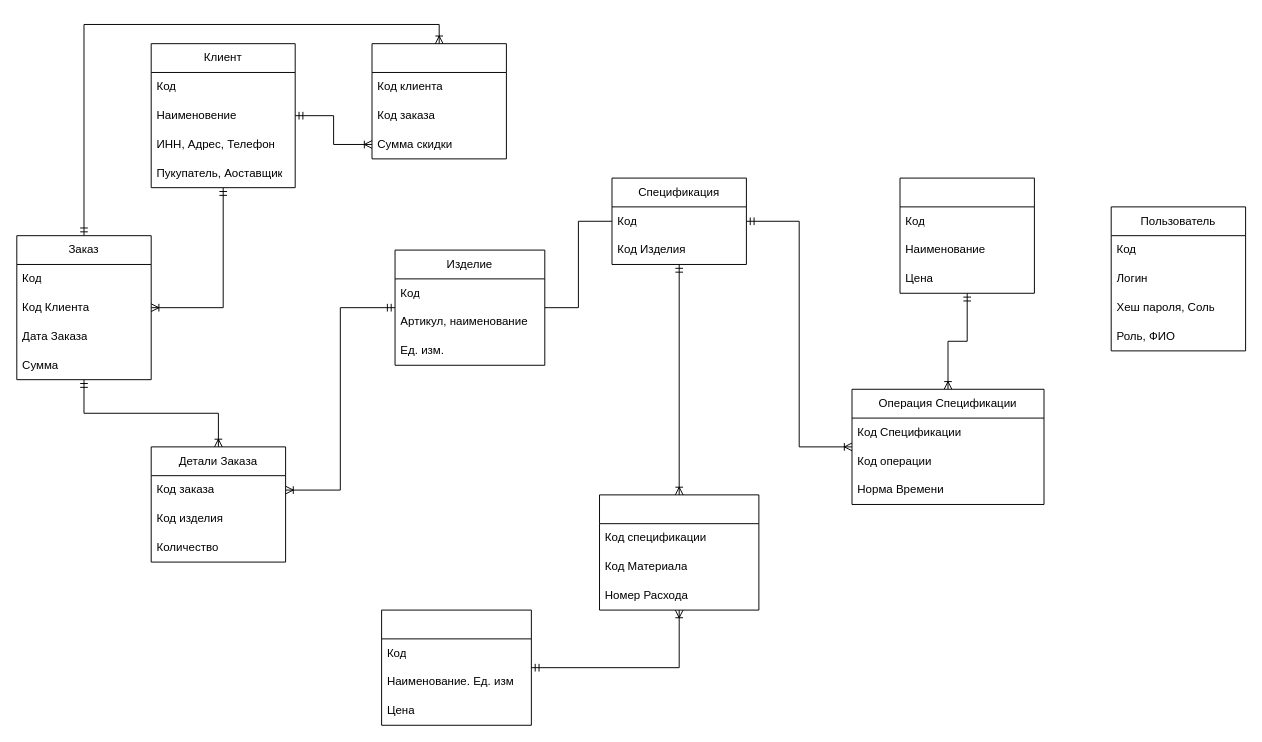
Some shapes in this 1262 by 742 pixel diagram are drawn without their labels. Here are the shapes that lost their labels. From the top down, the box of each, then its label:
(371, 43, 506, 159): СкдикаКлиента
(899, 177, 1034, 293): Операция
(599, 494, 759, 610): Материал Спецификации
(381, 609, 531, 725): Материал
